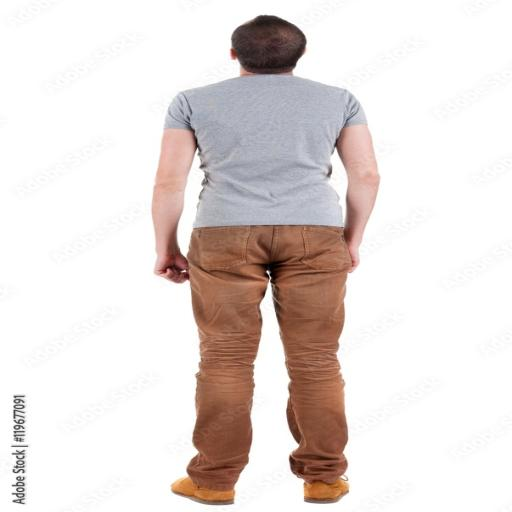person: (150, 14, 380, 505)
